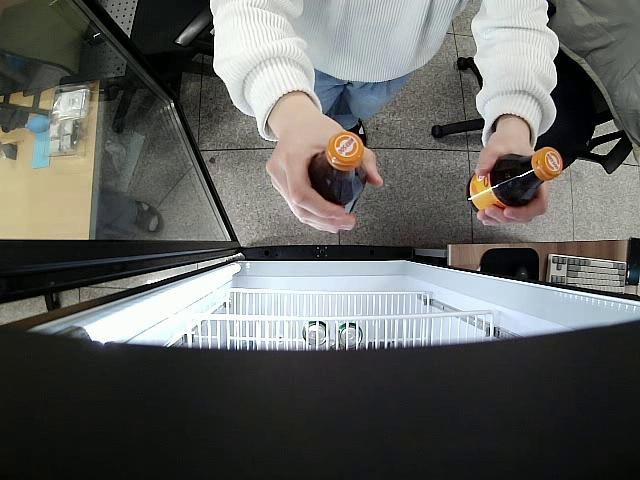17_vita500: (466, 148, 562, 215), (309, 132, 366, 215)
